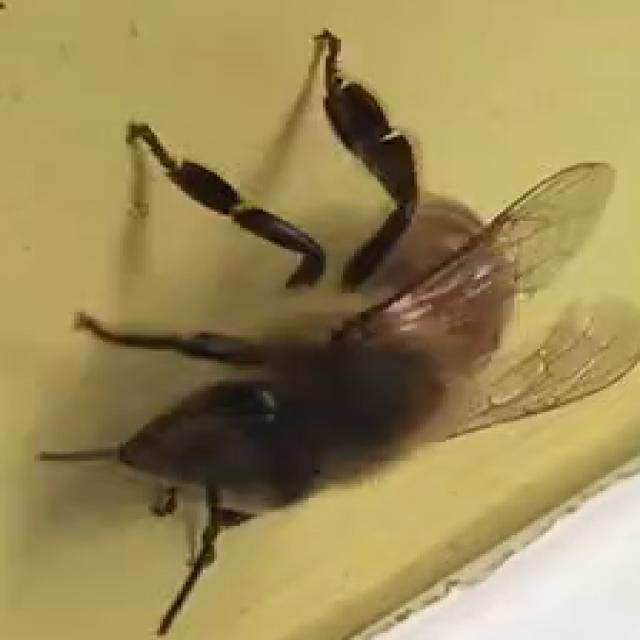honeybee: (47, 15, 636, 602)
